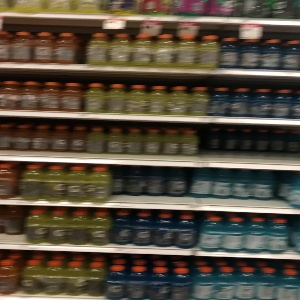void: (200, 123, 300, 163)
